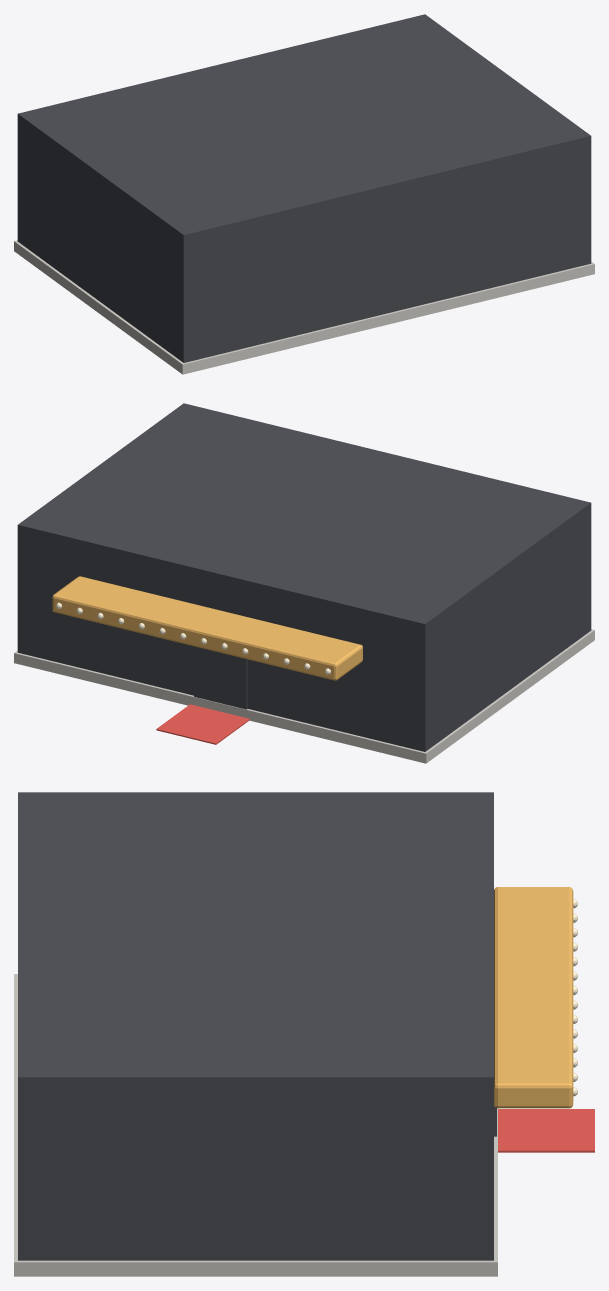
File: B_club.fbx
3 renders of one model, top to bottom at view 1: azimuth 30°, elevation 25°; view 2: azimuth 150°, elevation 25°; view 3: azimuth 270°, elevation 25°, orthographic. The views are drawn at different scales.
Parts seen in each view (by area): view 1: Dark.018, Concrete.011; view 2: Dark.018, Trim.010, Concrete.011, Accent.005, Glow.004; view 3: Dark.018, Trim.010, Concrete.011, Accent.005.
Part boxes in pixels (<box>): Dark.018: <box>17,14,591,362</box>; Concrete.011: <box>14,240,594,374</box>; Dark.018: <box>17,403,591,751</box>; Trim.010: <box>52,576,362,680</box>; Concrete.011: <box>14,629,594,763</box>; Accent.005: <box>156,704,249,744</box>; Glow.004: <box>56,602,330,674</box>; Dark.018: <box>18,792,496,1260</box>; Trim.010: <box>494,887,573,1108</box>; Concrete.011: <box>14,974,497,1276</box>; Accent.005: <box>498,1109,594,1152</box>.
Size of the model in its own units: 3440 by 1100 by 2930.
